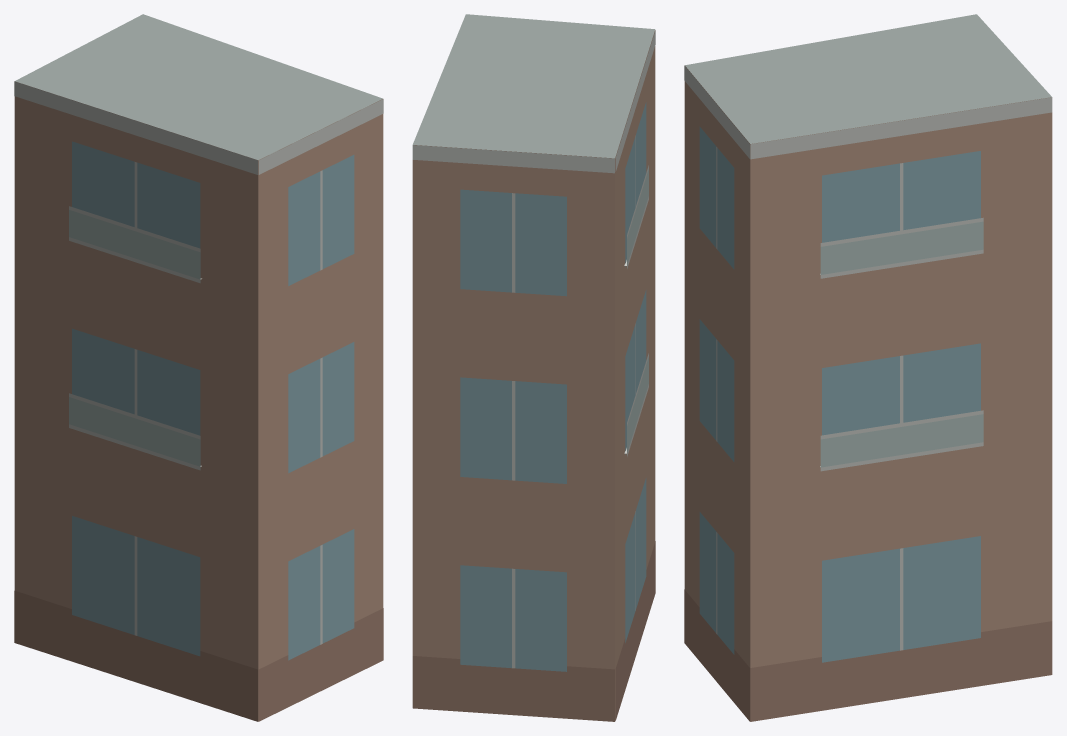
The model's file is survey-upis-32952283.glb.
The picture shows the model from 3 angles, left to right: view 1: azimuth 30°, elevation 25°; view 2: azimuth 150°, elevation 25°; view 3: azimuth 270°, elevation 25°; orthographic projection. The views are drawn at different scales.
Visible parts, largest first — view 1: survey-upis-32952283.tmp; view 2: survey-upis-32952283.tmp; view 3: survey-upis-32952283.tmp.
Part boxes in pixels (box(x1,y1,x2,y2)): survey-upis-32952283.tmp: box(14, 14, 383, 721); survey-upis-32952283.tmp: box(412, 14, 655, 721); survey-upis-32952283.tmp: box(684, 14, 1052, 721).
Bounding box in the file's own units: 4.42 × 9.15 × 5.29.
